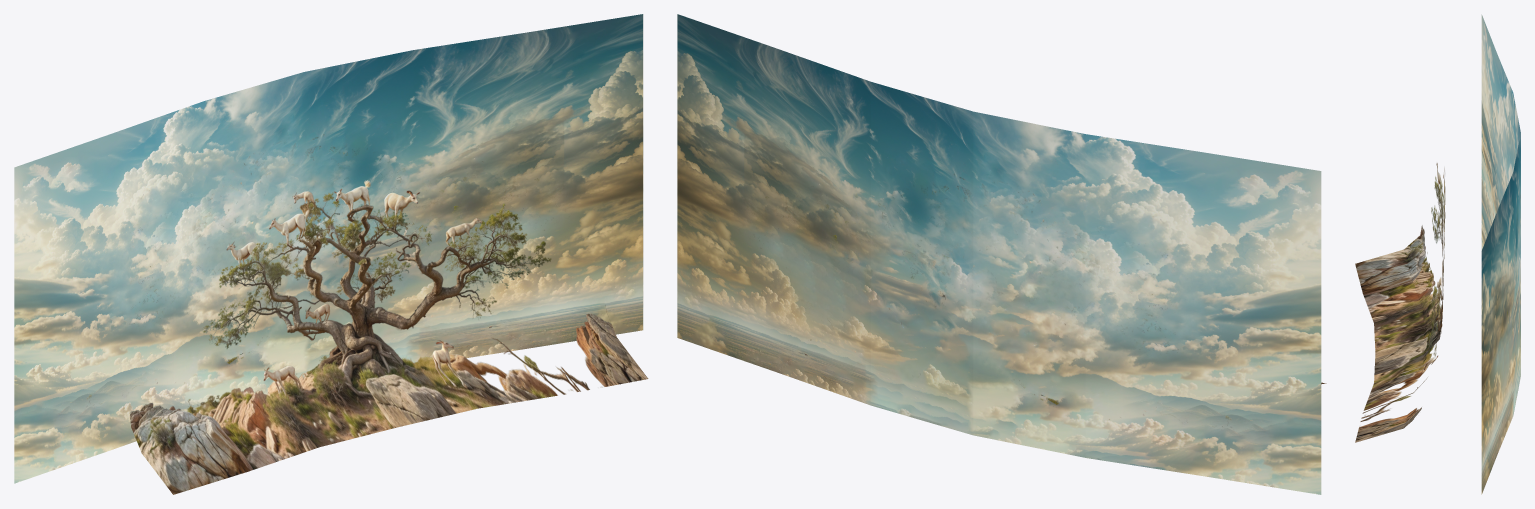
File: GoatSky.glb
The picture shows the model from 3 angles, left to right: view 1: azimuth 30°, elevation 25°; view 2: azimuth 150°, elevation 25°; view 3: azimuth 270°, elevation 25°; orthographic projection. The views are drawn at different scales.
Parts seen in each view (by area): view 1: Sky, Foregrounda; view 2: Sky; view 3: Sky, Foregrounda.
Part boxes in pixels (box(x1,y1,x2,y2)): Sky: box(14, 14, 643, 483); Foregrounda: box(130, 179, 648, 494); Sky: box(677, 14, 1321, 494); Sky: box(1481, 14, 1520, 494); Foregrounda: box(1355, 163, 1445, 442).
Size of the model in its own units: 34.88 by 16.77 by 10.32.
2 materials, 2 textured.
